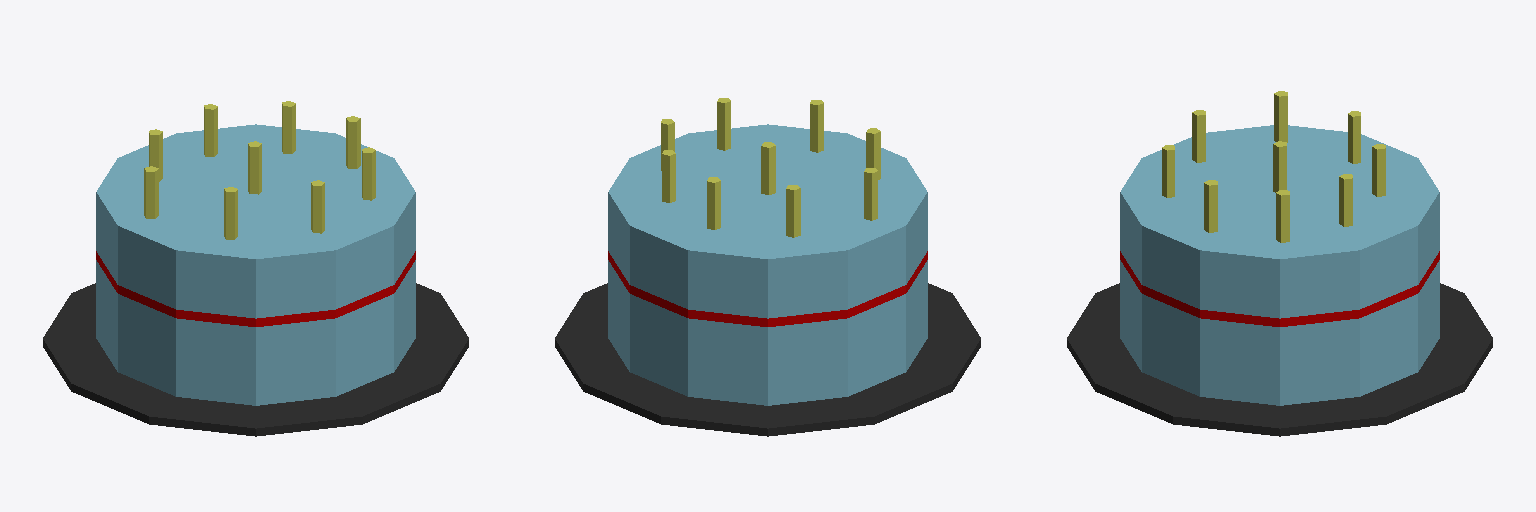
File: cake.obj
3 renders of one model, left to right at view 1: azimuth 30°, elevation 25°; view 2: azimuth 150°, elevation 25°; view 3: azimuth 270°, elevation 25°, orthographic.
Parts seen in each view (by area): view 1: Cylinder.001; view 2: Cylinder.001; view 3: Cylinder.001.
Part boxes in pixels (bbox=[...]): Cylinder.001: bbox=[43, 101, 468, 436]; Cylinder.001: bbox=[555, 98, 980, 436]; Cylinder.001: bbox=[1067, 91, 1492, 436].
Bounding box in the file's own units: 2.19 × 1.26 × 2.19.